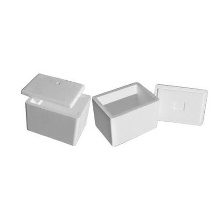foam_box: (18, 68, 91, 148), (92, 78, 162, 149), (149, 79, 211, 129)
